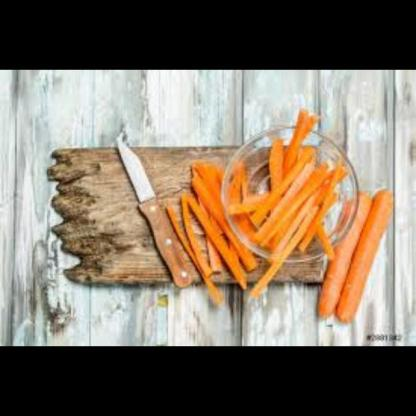carrot: (169, 152, 257, 298), (243, 128, 334, 265), (328, 188, 399, 331), (308, 184, 373, 318)
